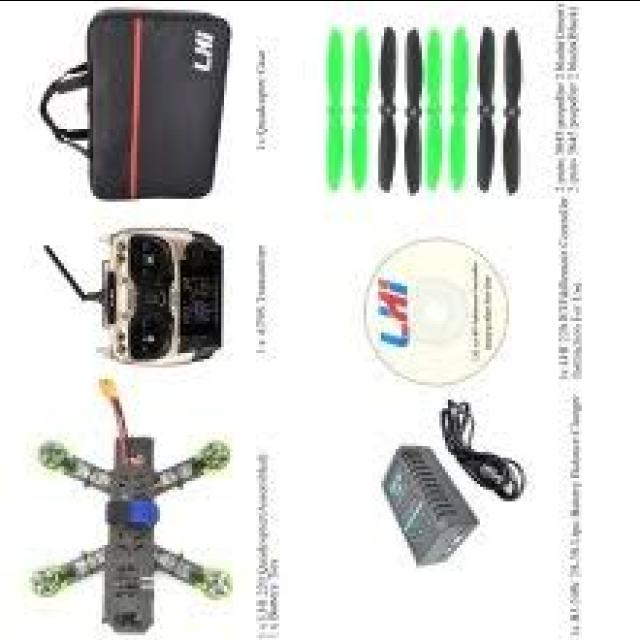drone: (18, 381, 247, 640)
